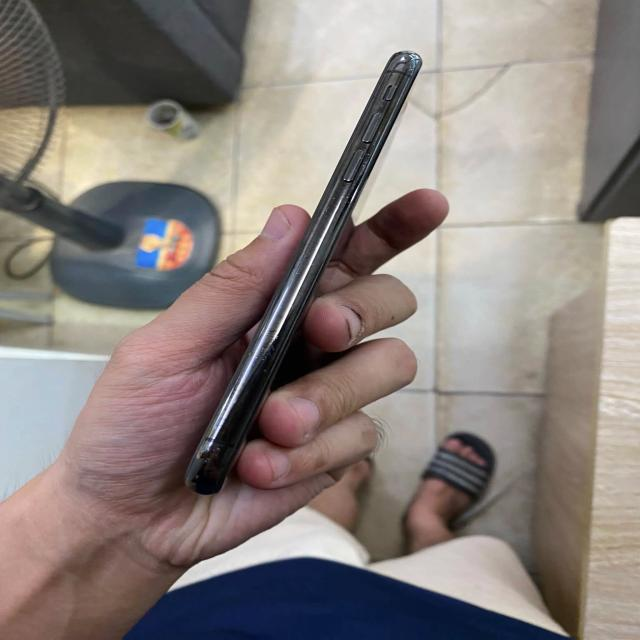scratch: (178, 409, 259, 490), (257, 270, 353, 333), (223, 334, 292, 411), (321, 145, 377, 213), (354, 75, 404, 144)
